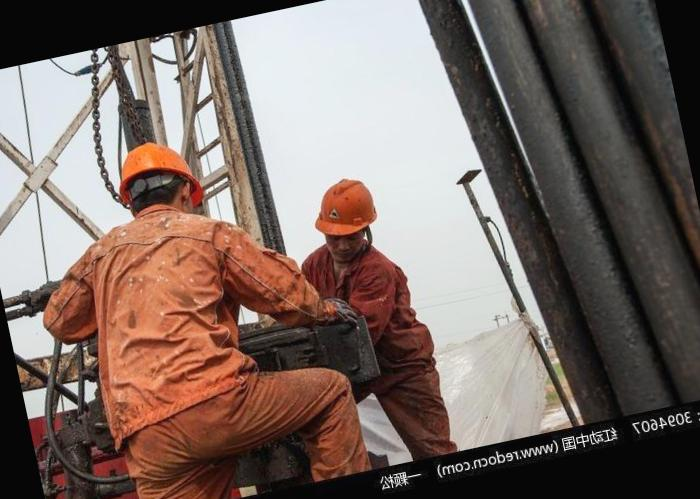helmet: (107, 135, 194, 195), (308, 172, 382, 237)
no_vest: (68, 194, 258, 438), (294, 239, 422, 376)
person: (19, 121, 314, 499), (274, 165, 455, 477)
